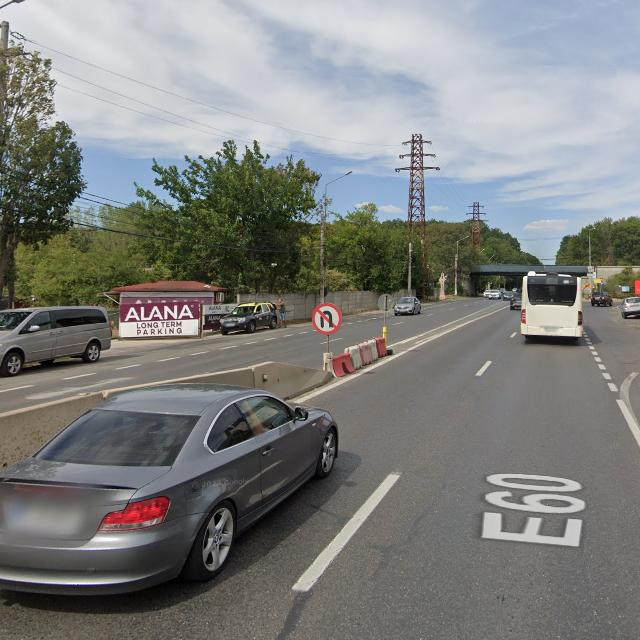forb_u_turn: (312, 302, 342, 334)
